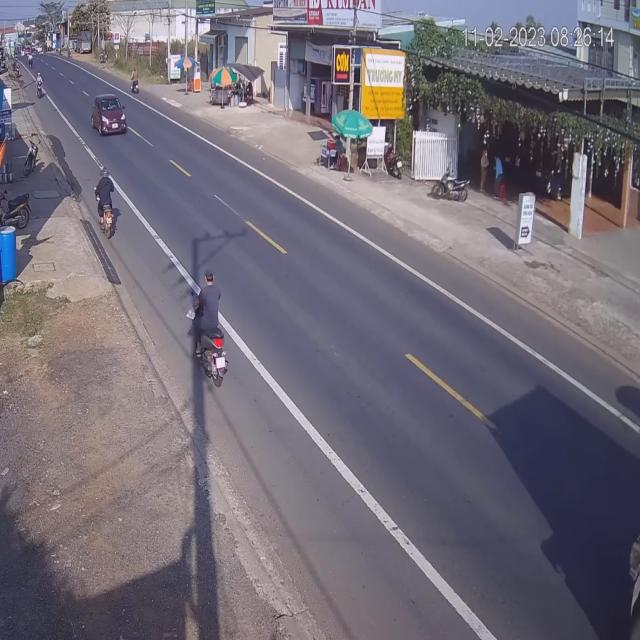car: (92, 93, 128, 138)
motorbike: (193, 274, 232, 392), (95, 168, 118, 239), (130, 69, 140, 95)
